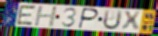3: (61, 7, 78, 28)
E: (15, 4, 38, 26)
H: (33, 5, 59, 27)
P: (77, 7, 100, 30)
U: (102, 9, 124, 31)
X: (122, 11, 142, 32)
